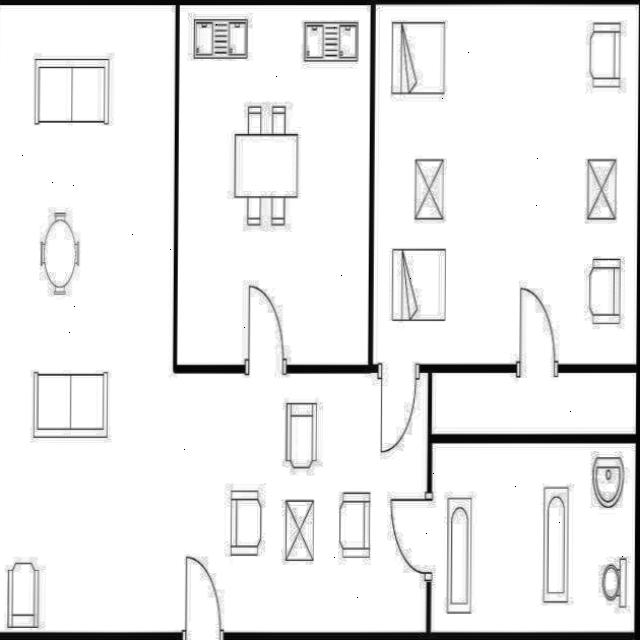room: (0, 5, 428, 632), (373, 3, 639, 366), (177, 4, 371, 366), (431, 444, 636, 632), (432, 373, 636, 434)
